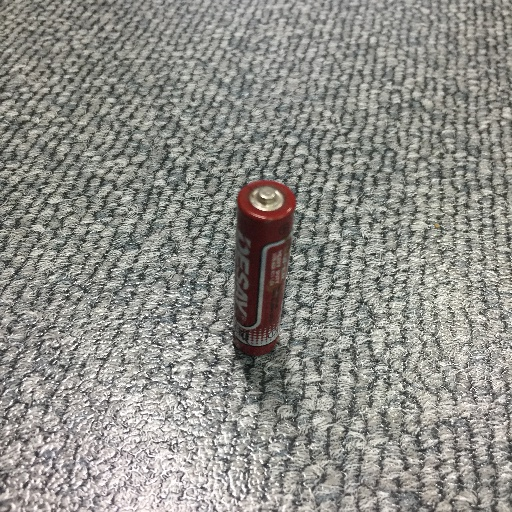Battery_0: (225, 176, 298, 360)
